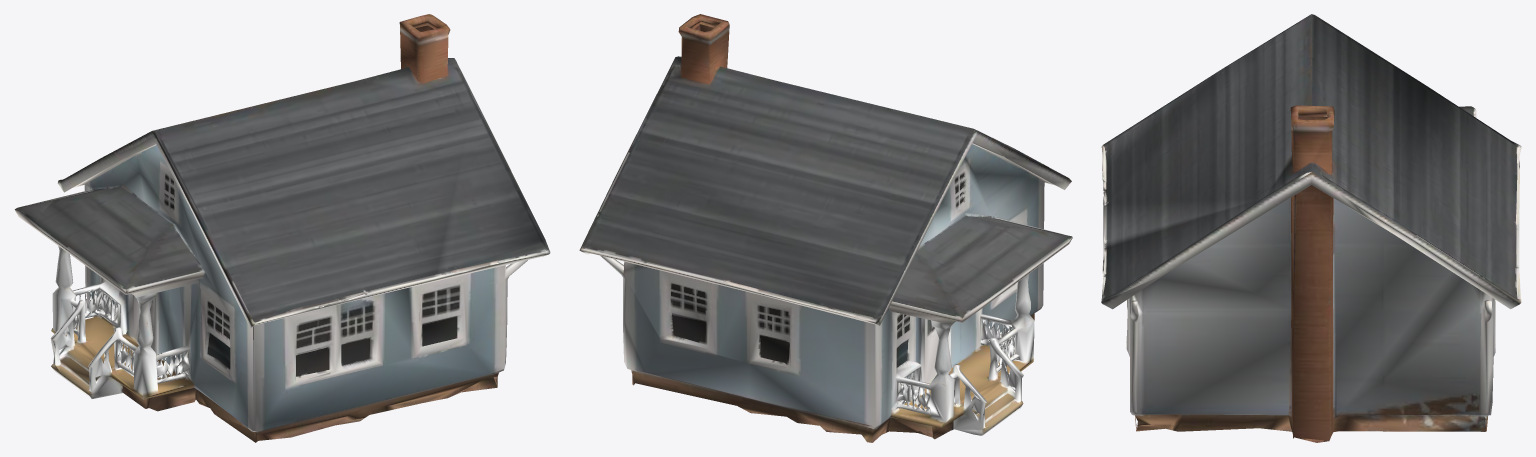
Rendered from house_ranch.glb.
3 views of the same model, side by side, from view 1: azimuth 30°, elevation 25°; view 2: azimuth 150°, elevation 25°; view 3: azimuth 270°, elevation 25° (orthographic). The views are drawn at different scales.
Bounding box in the file's own units: 0.9989 × 0.7909 × 0.9297.
1 material, 1 textured.
